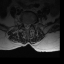CCS_normal: (26, 21, 28, 31)
LFS_stenosis: (30, 21, 32, 26)
LLS_normal: (28, 21, 30, 29)
RFS_stenosis: (21, 20, 24, 26)
RLS_normal: (24, 21, 26, 29)
